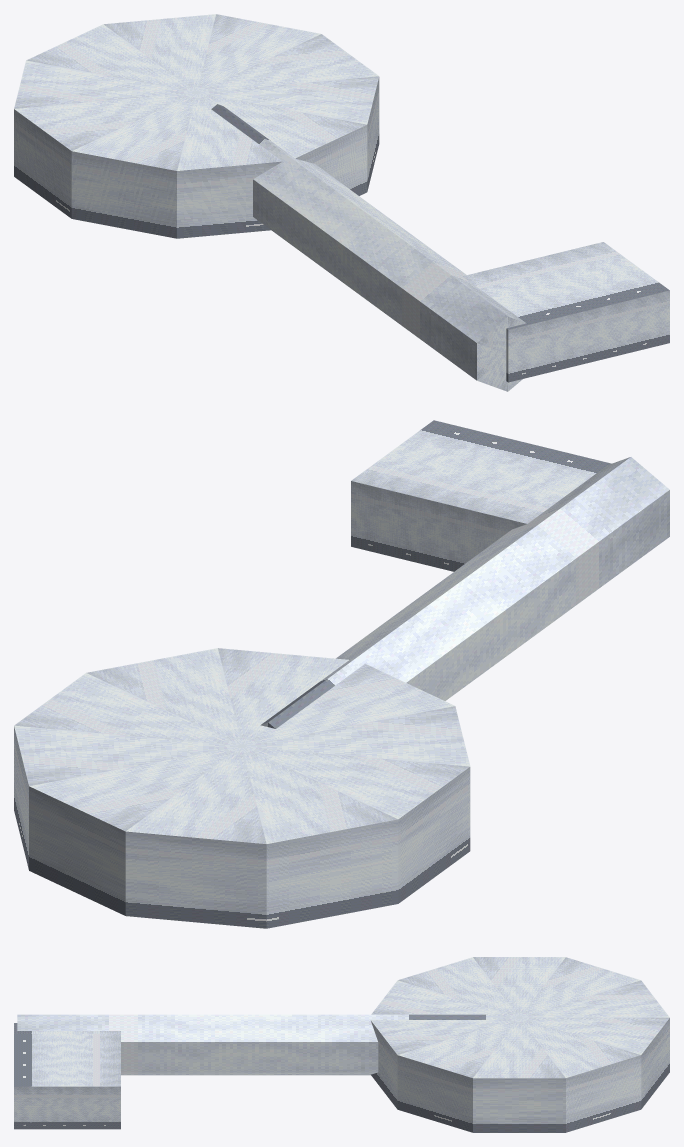
The model's file is chave_nivel_2.glb.
3 renders of one model, top to bottom at view 1: azimuth 30°, elevation 25°; view 2: azimuth 150°, elevation 25°; view 3: azimuth 270°, elevation 25°, orthographic. The views are drawn at different scales.
Parts seen in each view (by area): view 1: chave_nivel_2; view 2: chave_nivel_2; view 3: chave_nivel_2.
Boxes of the visible parts, x1,y1,x2,y2 form: chave_nivel_2: (14, 14, 669, 391); chave_nivel_2: (14, 420, 669, 928); chave_nivel_2: (14, 957, 669, 1132).
Bounding box in the file's own units: 0.0873 × 0.02 × 0.196.
Materials: 1 (1 with a texture image).
